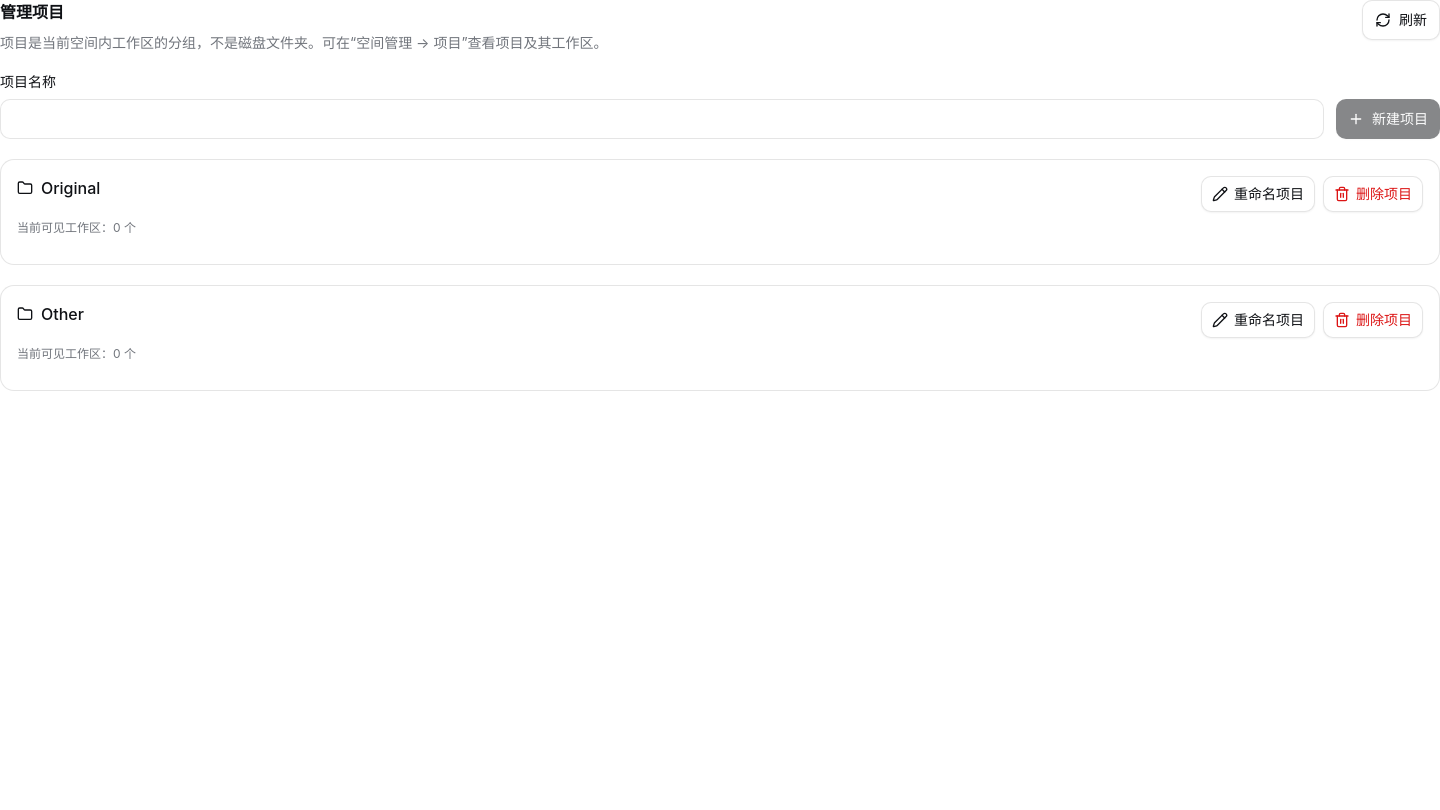
Test: Platform project settings › keeps the confirmation and project on conflict: personal default project cannot be deleted
Click the button "删除项目" in the row of "Original" at (1373, 194), box [1323,176,1423,212]
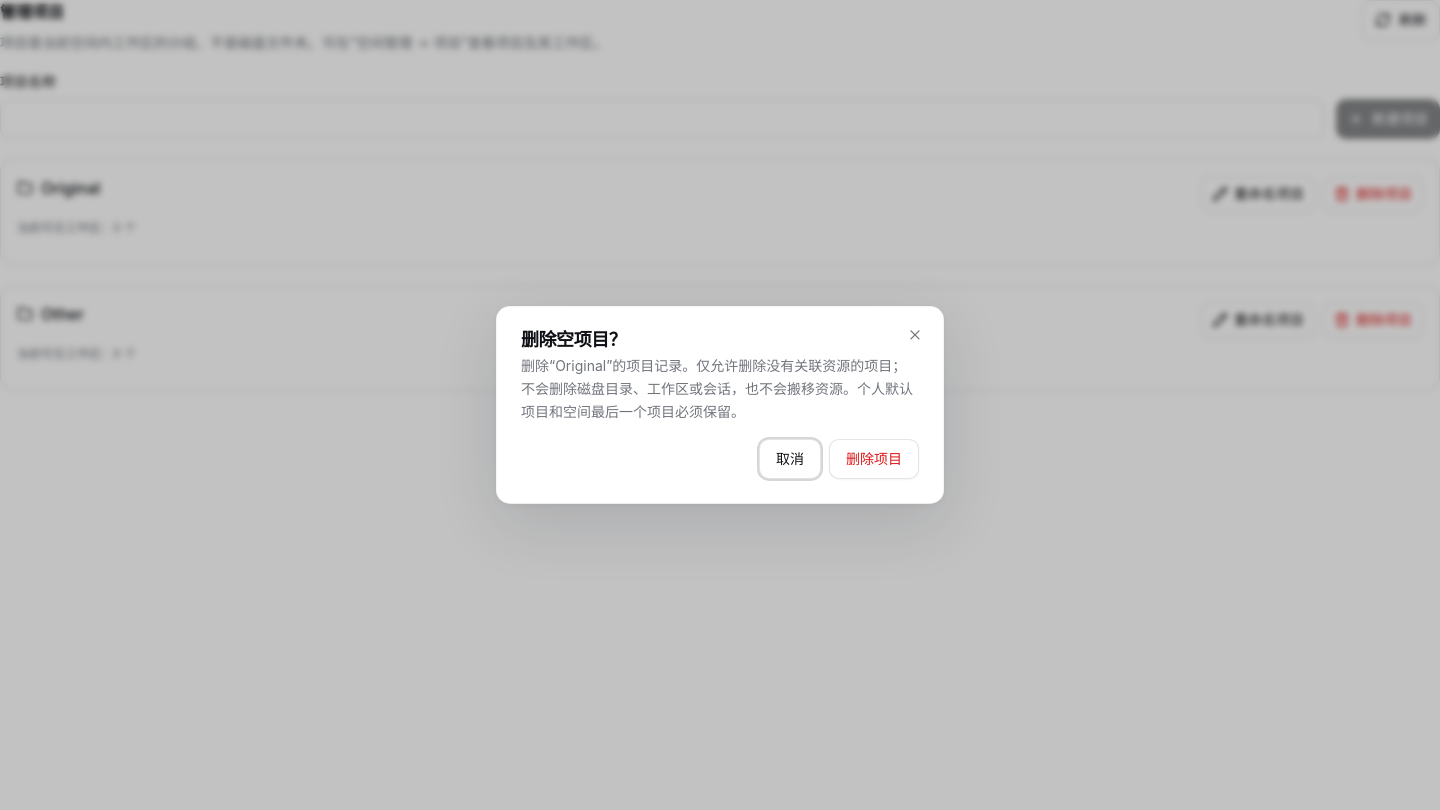
Click the button "删除项目" at (874, 459), box [829,439,919,479]
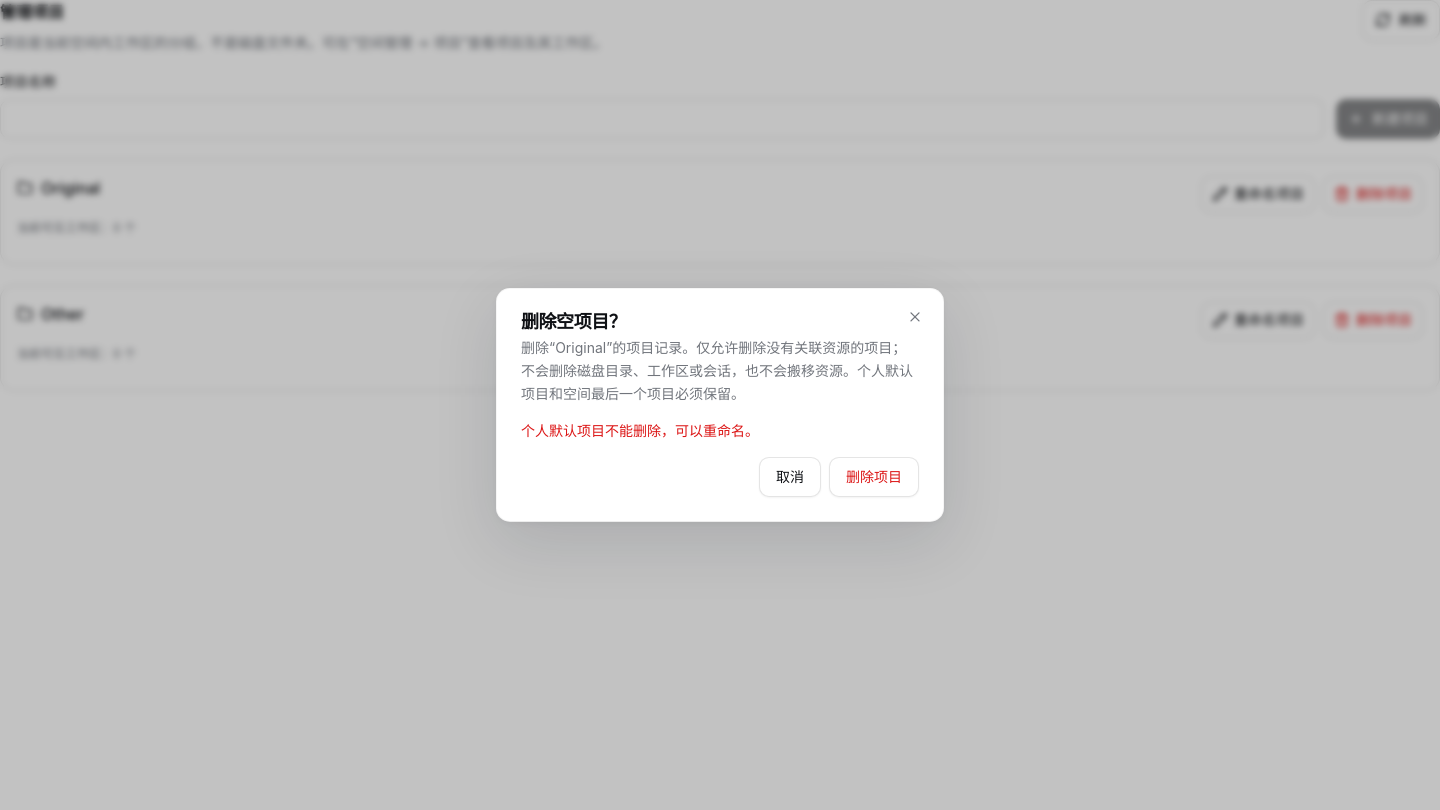
Expected: the element showing "Original 重命名项目 删除项目 当前可见工作区：0 个" is shown, [0,159,1439,265]
Now the message "个人默认项目不能删除，可以重命名。" is shown, box [521,422,759,439]
